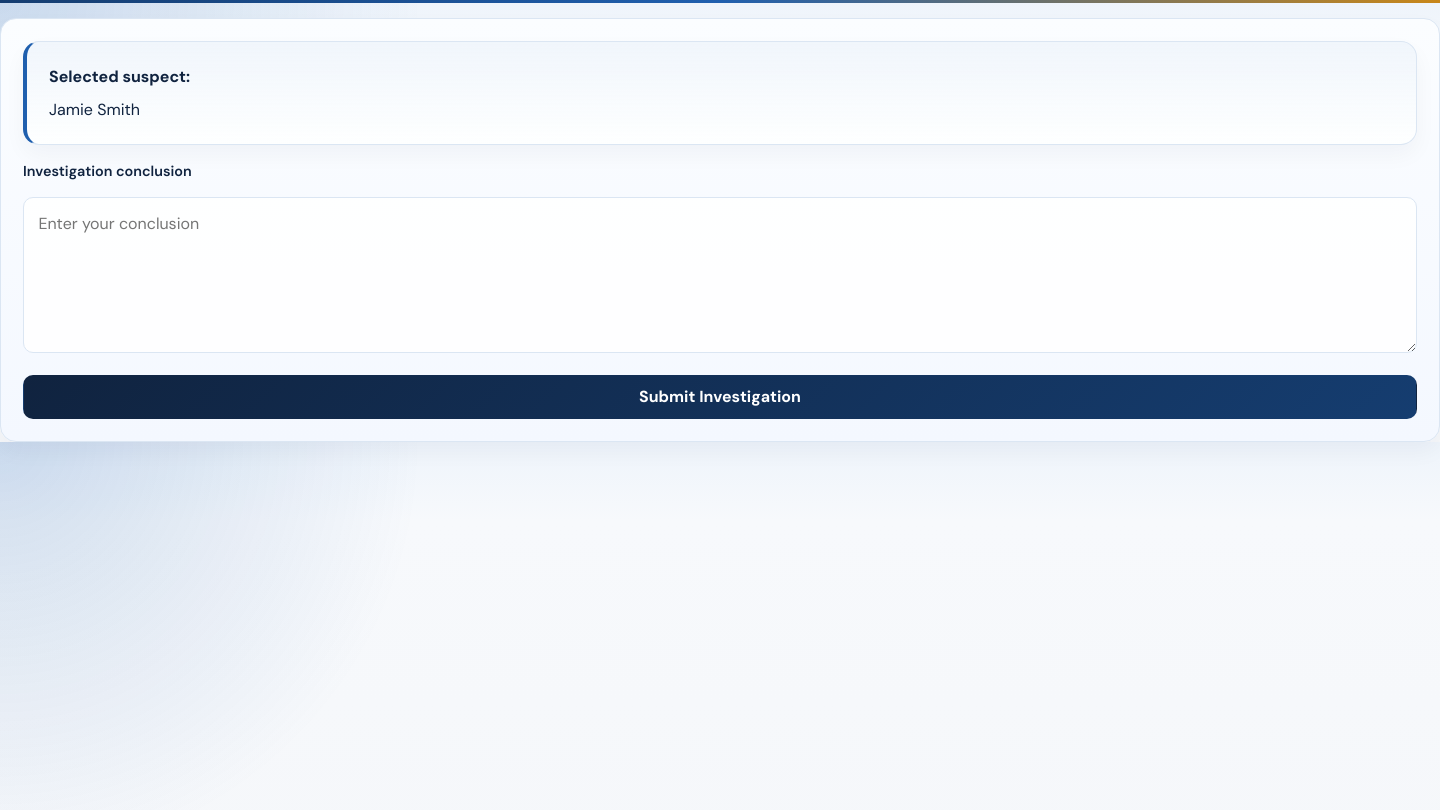
Scenario: Investigation form › submits a selected suspect and a non-empty conclusion
Type "Jamie had access to the laboratory." into the text box labelled "Investigation conclusion" at (720, 275), box [23, 197, 1417, 353]
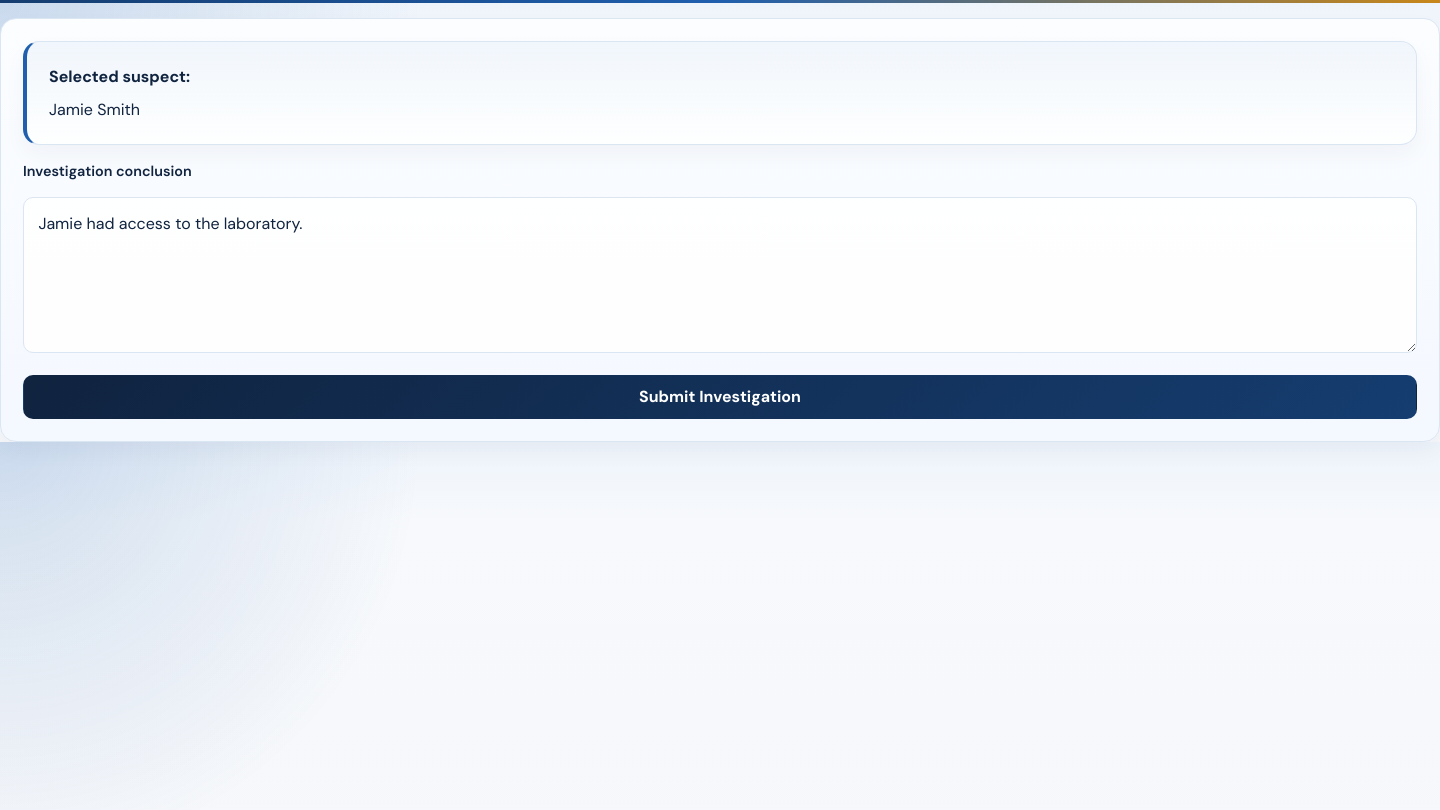
Click the button "Submit Investigation" at (720, 397), box [23, 375, 1417, 419]
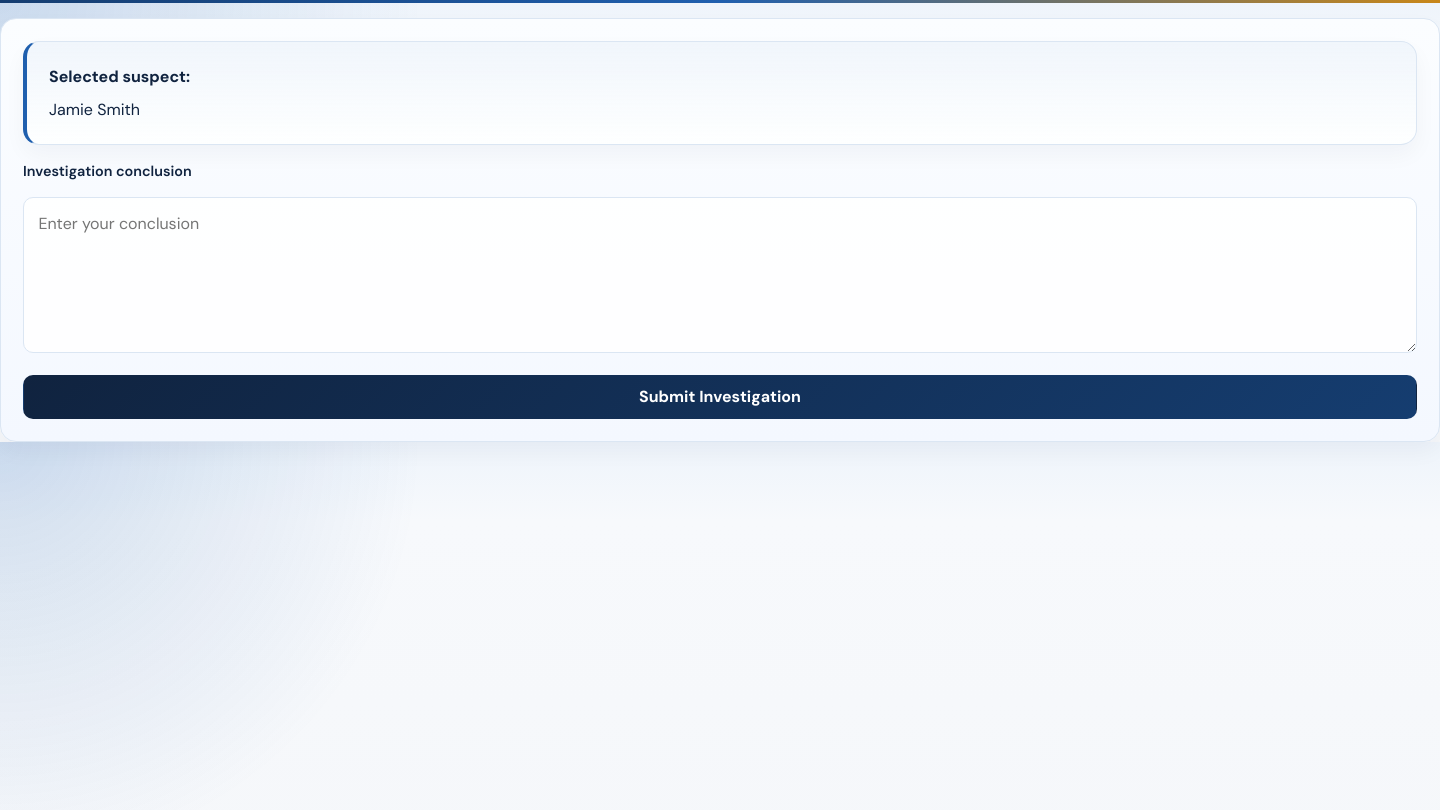
Result: the text box labelled "Investigation conclusion" is empty at [23, 197, 1417, 353]
